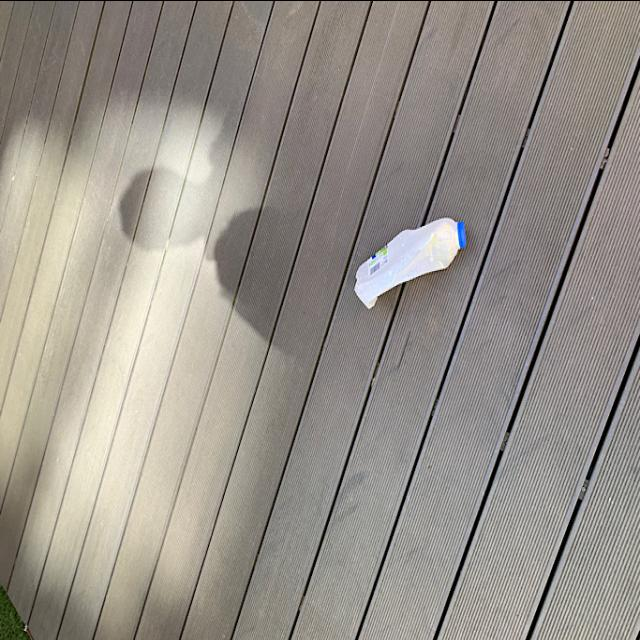litter: (352, 211, 472, 309)
